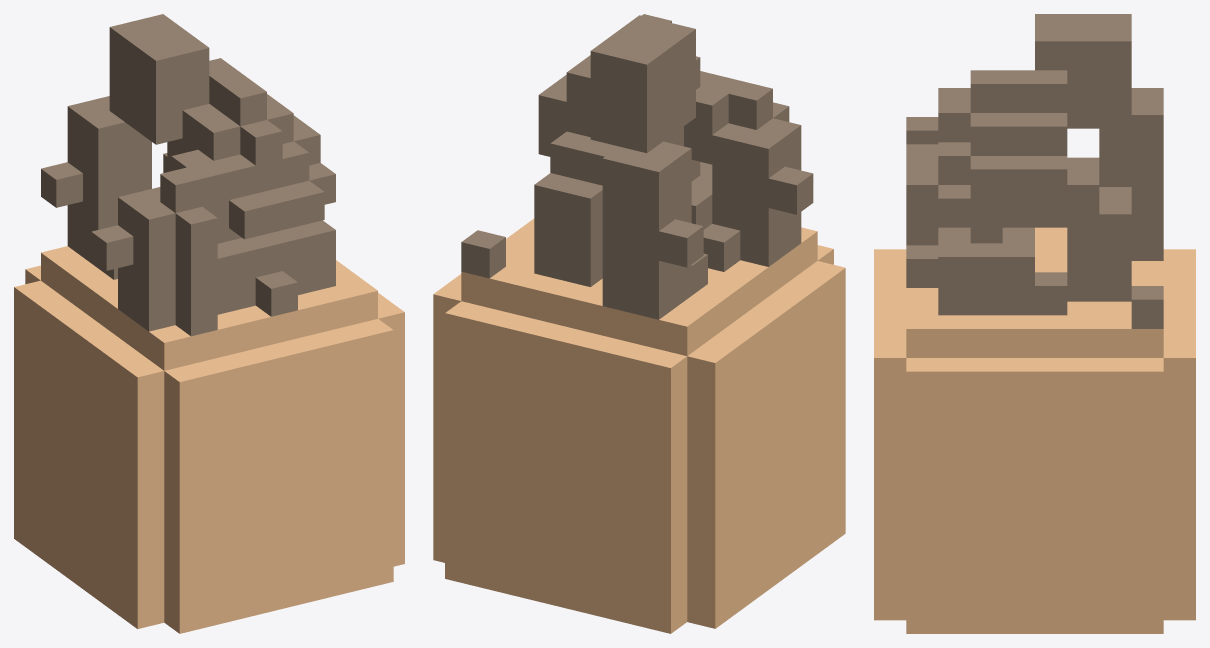
The model's file is block_rock.obj.
3 views of the same model, side by side, from view 1: azimuth 30°, elevation 25°; view 2: azimuth 150°, elevation 25°; view 3: azimuth 270°, elevation 25° (orthographic). The views are drawn at different scales.
Size of the model in its own units: 1 by 1.8 by 1.
Materials: 1 (1 with a texture image).
